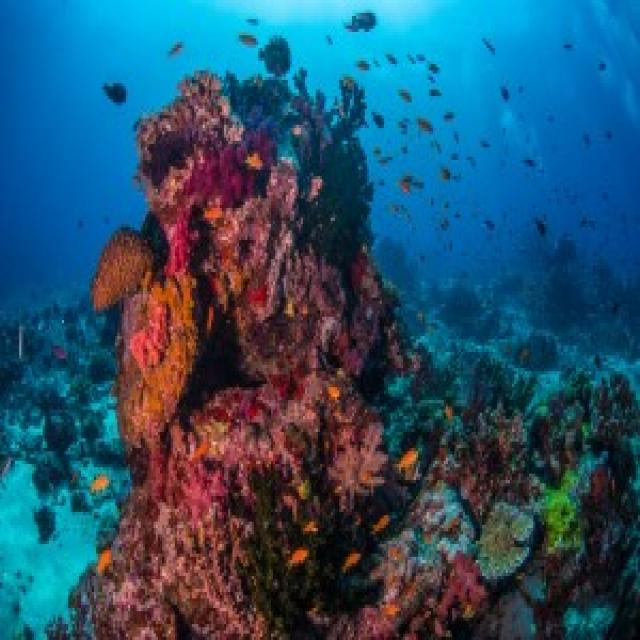Healthy: (191, 375, 387, 519), (97, 475, 266, 638), (146, 113, 276, 238), (402, 401, 528, 523), (327, 532, 472, 638), (238, 247, 347, 375), (536, 439, 637, 571), (118, 279, 195, 446), (532, 366, 639, 484), (135, 71, 242, 187), (204, 199, 268, 286), (97, 228, 155, 308)
